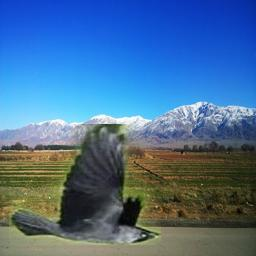Crow: (9, 125, 161, 246)
